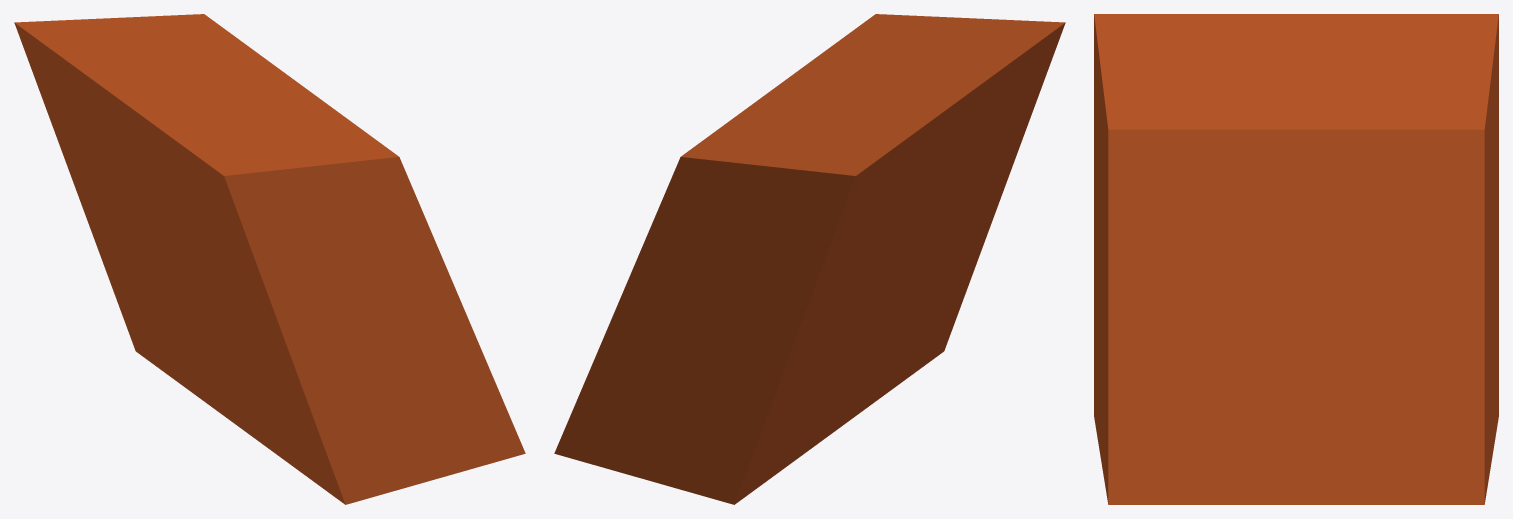
Rendered from carrotSlice.fbx.
3 views of the same model, side by side, from view 1: azimuth 30°, elevation 25°; view 2: azimuth 150°, elevation 25°; view 3: azimuth 270°, elevation 25° (orthographic). The views are drawn at different scales.
Visible parts, largest first — view 1: carrotSlice; view 2: carrotSlice; view 3: carrotSlice.
Part boxes in pixels (x1,y1,x2,y2): carrotSlice: [14, 14, 525, 504]; carrotSlice: [554, 14, 1065, 504]; carrotSlice: [1094, 14, 1498, 504].
Bounding box in the file's own units: 4.02 × 4.46 × 4.73.
Materials: 1 (1 with a texture image).
